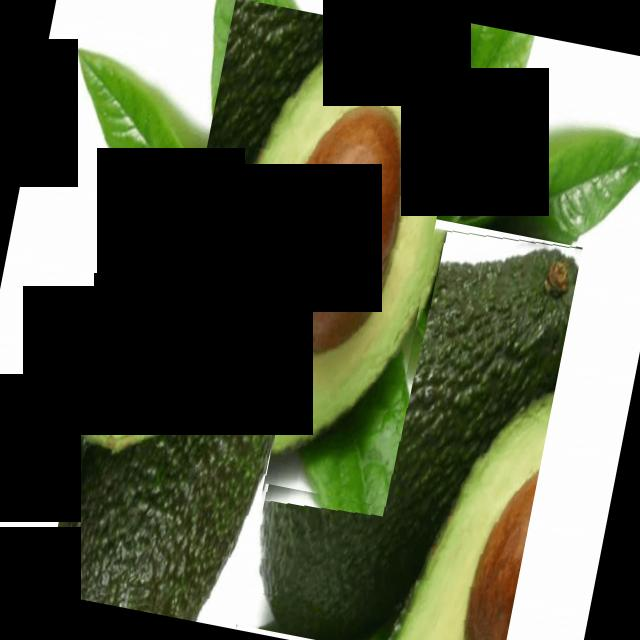avocado: (146, 0, 470, 506), (230, 195, 582, 640), (45, 210, 310, 630)
